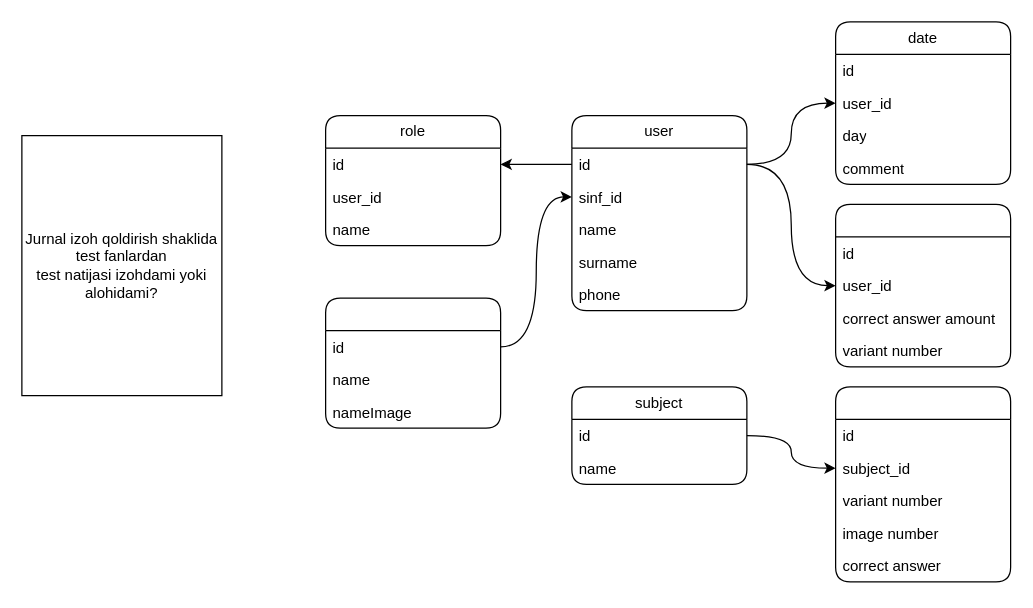
The diagram is 1033 pixels wide and 608 high, and some of its shapes have lost their labels. The box of each missing label's shape, as (x1, y1, x2, y2) in pixels:
result: (834, 203, 1011, 367)
sinf: (324, 297, 501, 428)
test: (834, 386, 1011, 582)
